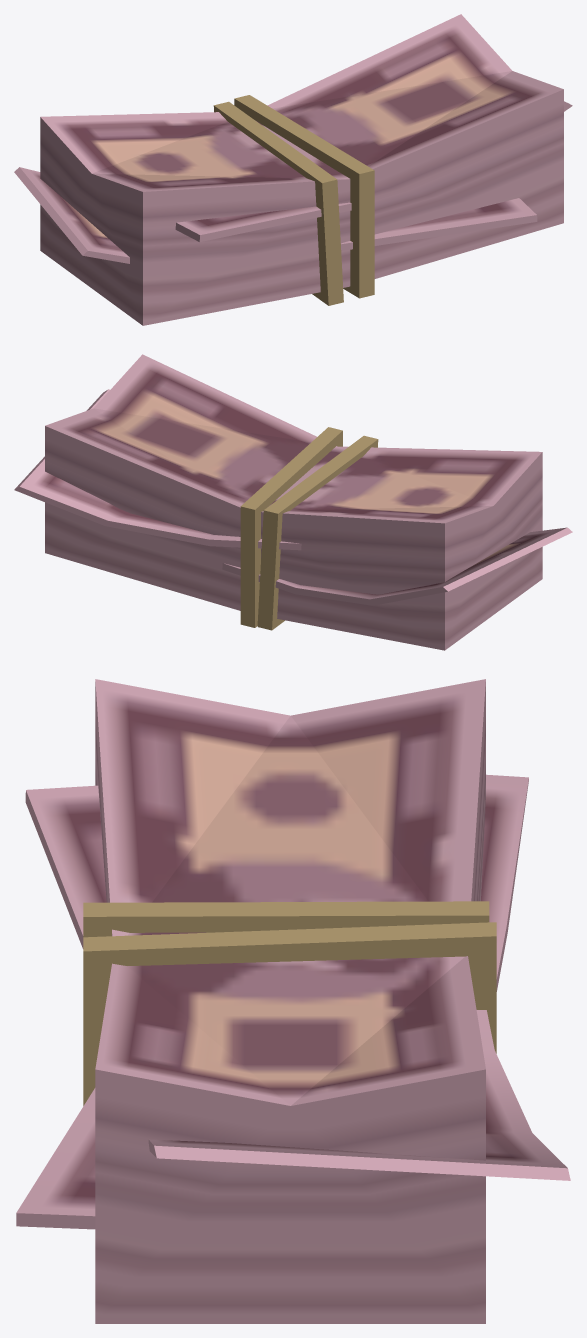
The model's file is SM_Prop_Money_Strapped_03.glb.
3 renders of one model, top to bottom at view 1: azimuth 30°, elevation 25°; view 2: azimuth 150°, elevation 25°; view 3: azimuth 270°, elevation 25°, orthographic. The views are drawn at different scales.
Parts seen in each view (by area): view 1: SM_Prop_Money_Strapped_03; view 2: SM_Prop_Money_Strapped_03; view 3: SM_Prop_Money_Strapped_03.
Boxes of the visible parts, x1,y1,x2,y2 form: SM_Prop_Money_Strapped_03: (14,14,572,325); SM_Prop_Money_Strapped_03: (14,354,572,650); SM_Prop_Money_Strapped_03: (16,679,570,1323).
Size of the model in its own units: 0.32 by 0.097 by 0.1642.
1 material, 1 textured.
